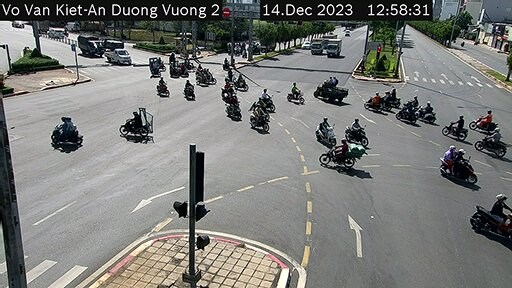motorbike: (440, 144, 478, 185), (49, 113, 87, 153), (475, 188, 509, 232), (119, 106, 159, 142), (314, 73, 353, 109), (321, 136, 356, 168), (441, 115, 469, 149), (285, 76, 309, 109), (390, 100, 414, 132), (346, 115, 369, 146), (473, 105, 497, 134), (482, 129, 504, 154), (249, 104, 269, 128), (314, 117, 334, 139), (177, 79, 194, 103), (151, 83, 175, 99)
truck: (78, 33, 100, 57), (326, 39, 349, 60), (110, 46, 129, 68), (305, 38, 325, 57)
